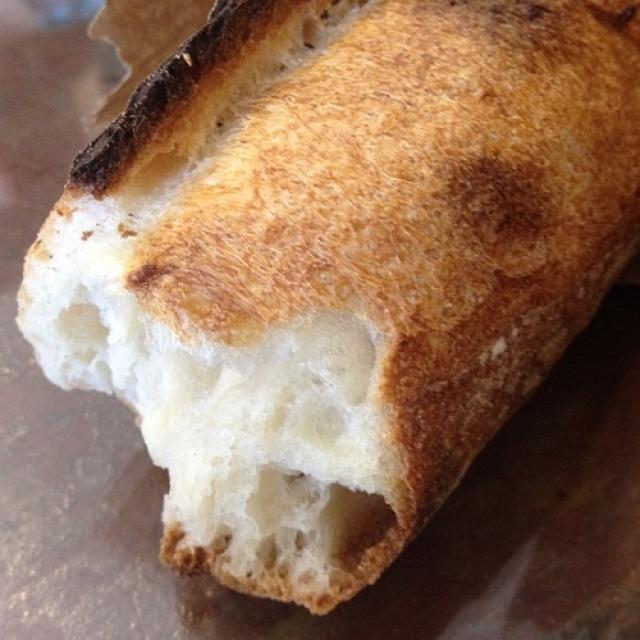Bread: (8, 7, 631, 630)
